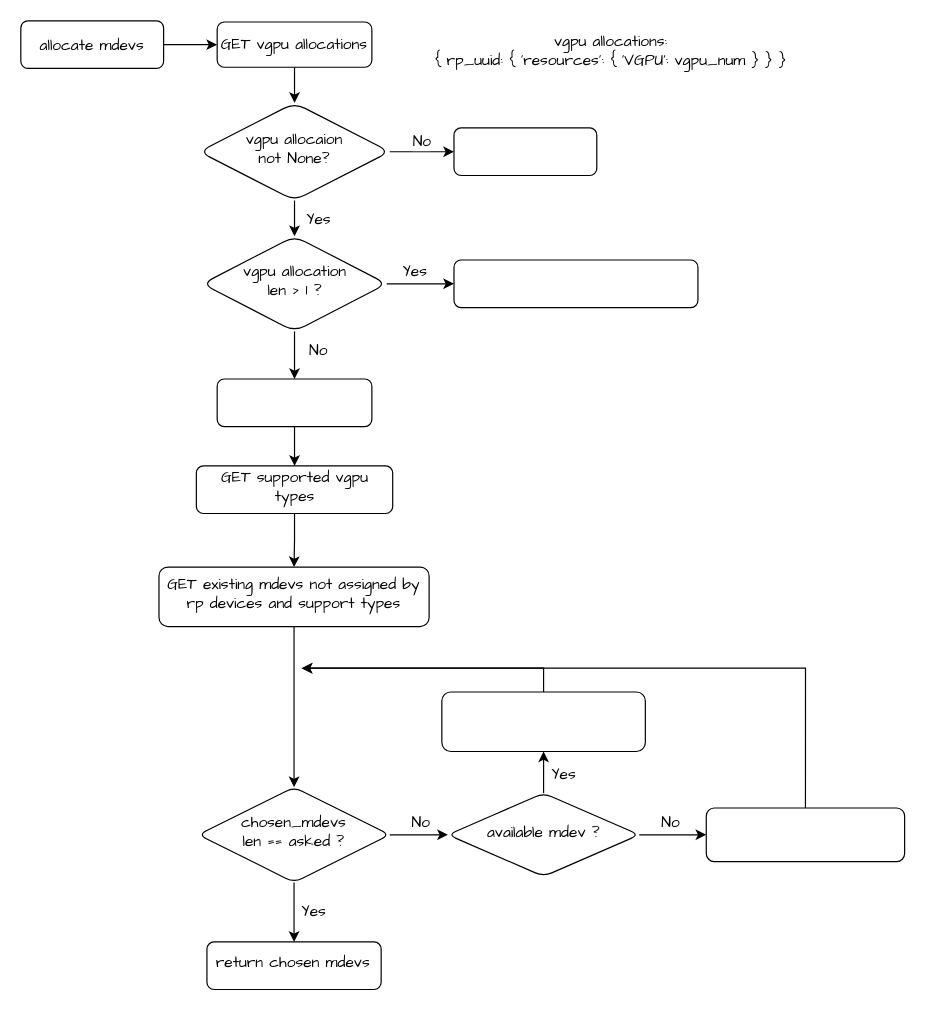
Image size: 926x1010. Some labels were removed from this diagram. Each missing label, with the box of its shape:
choose one from available mdevs: (441, 691, 645, 751)
create one from rp device: (705, 807, 905, 862)
GET allocated rp: (216, 378, 372, 427)
Log warning: only support allocations for only one pGPU: (453, 259, 698, 308)
return: (453, 127, 597, 176)
